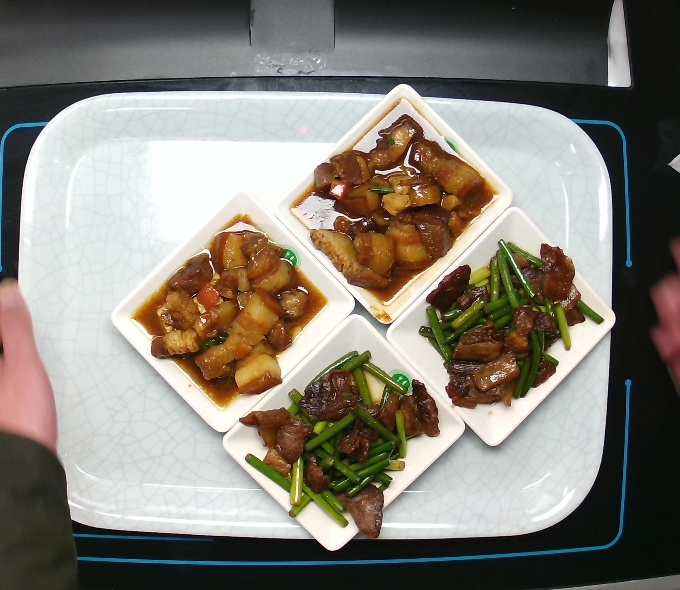wcq-HongShaoRou: (287, 94, 500, 307), (128, 213, 332, 407)
wcq-SuanMiaoChaoRou: (240, 346, 444, 540), (418, 240, 608, 407)
